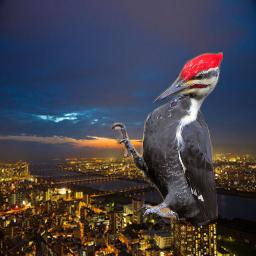Woodpecker: (110, 52, 223, 226)
